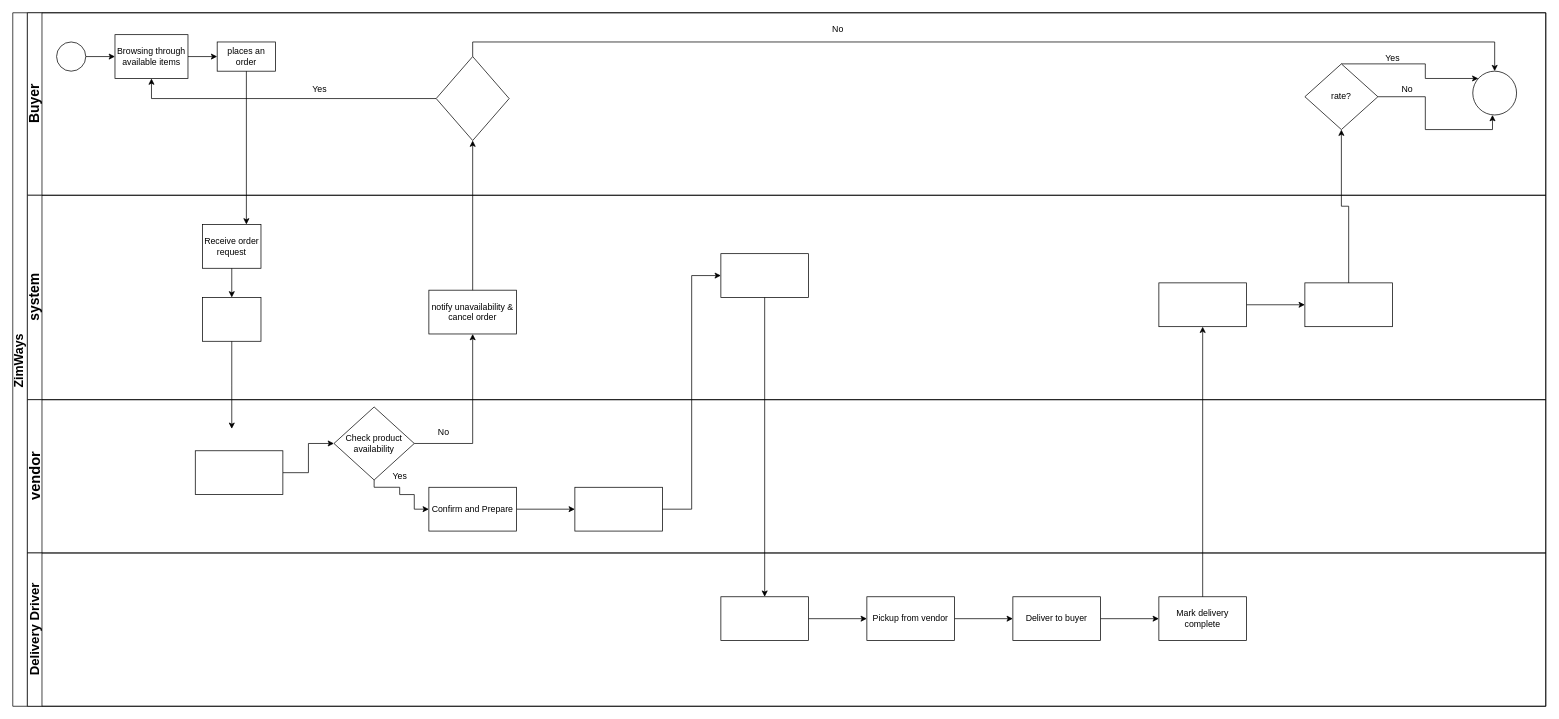
Some shapes in this 1559 by 719 pixel diagram are drawn without their labels. The centre of each missing label's shape, as x and y in pixels:
"ask for feedback" belongs at pixel 1348 304.
"Browse other products?" belongs at pixel 472 98.
"Mark Product as ready" belongs at pixel 618 509.
"Notify driver" belongs at pixel 764 275.
"notify vendor" belongs at pixel 231 319.
"Receive order notification" belongs at pixel 239 472.
"Receive pickup request" belongs at pixel 764 618.
"Update order as delivered" belongs at pixel 1202 304.
